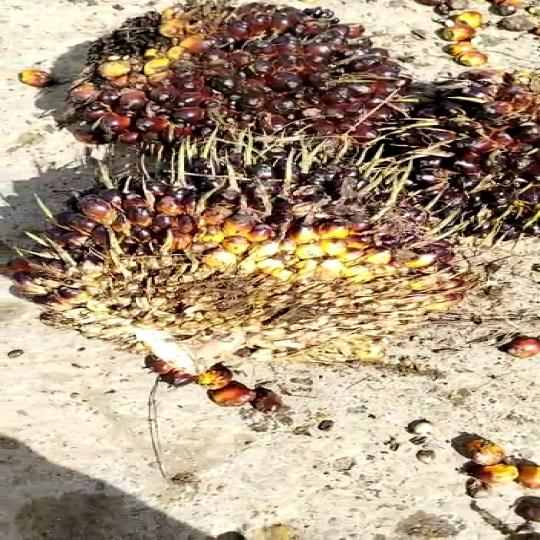kurang masak: (21, 141, 470, 387), (56, 0, 412, 135)
